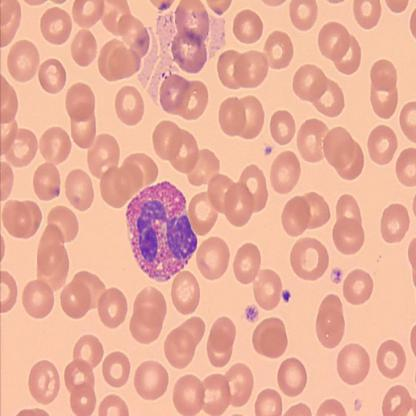Eosinophil: (123, 178, 199, 280)
